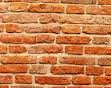brick: (59, 54, 96, 64), (51, 65, 84, 75), (55, 36, 91, 45), (1, 55, 37, 64), (35, 76, 73, 84), (31, 4, 64, 13), (2, 14, 37, 22), (28, 45, 63, 53), (1, 64, 28, 73), (1, 35, 35, 42), (86, 26, 111, 35), (66, 15, 94, 23), (85, 46, 111, 54), (66, 4, 87, 13), (88, 6, 111, 14), (73, 75, 91, 85), (93, 75, 111, 85), (10, 2, 29, 11), (15, 74, 34, 83), (86, 66, 103, 76), (5, 24, 23, 32), (64, 26, 80, 35), (65, 46, 83, 54), (92, 37, 111, 44), (39, 55, 57, 62), (36, 36, 55, 42), (1, 75, 14, 82)
